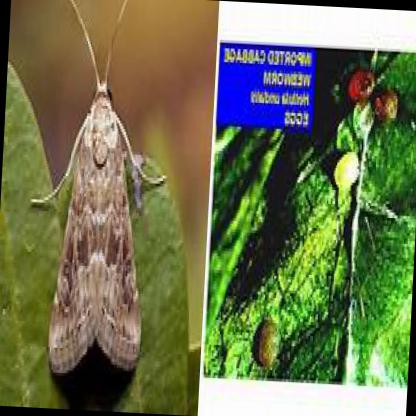Hellula undalis: (17, 0, 166, 386)
